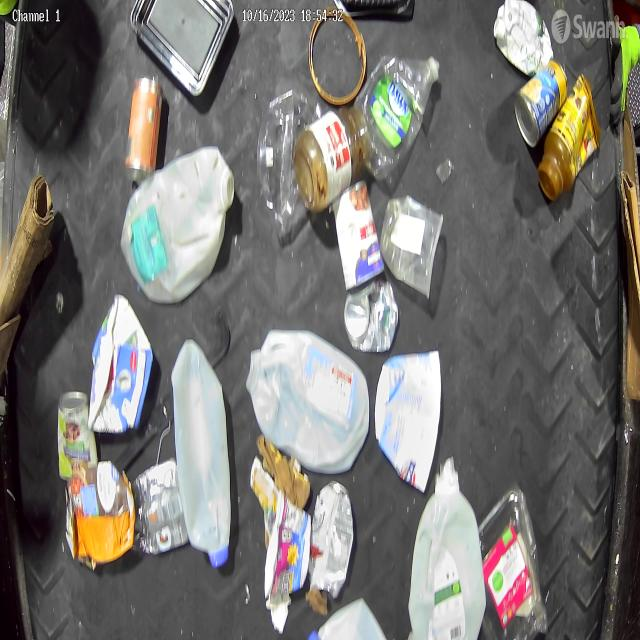can: (120, 147, 235, 305), (65, 462, 135, 569), (332, 179, 385, 291), (307, 482, 354, 601), (515, 59, 568, 148), (344, 280, 399, 352), (125, 76, 163, 179), (58, 391, 98, 480)
milk_jug: (246, 330, 370, 475), (407, 456, 487, 640), (171, 335, 231, 567), (307, 597, 388, 640)
plastic_bottle: (359, 55, 442, 179)
